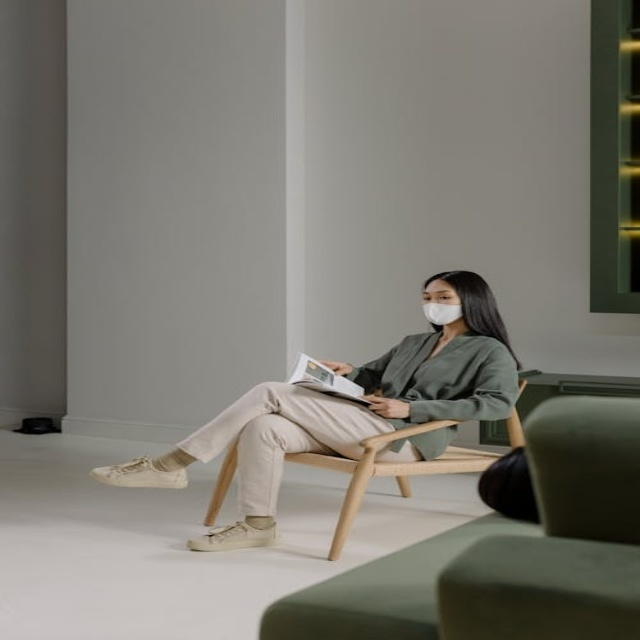Mascara: (421, 301, 465, 325)
Sin_gafas: (417, 288, 456, 300)
Sin_guantes: (360, 390, 412, 421)
